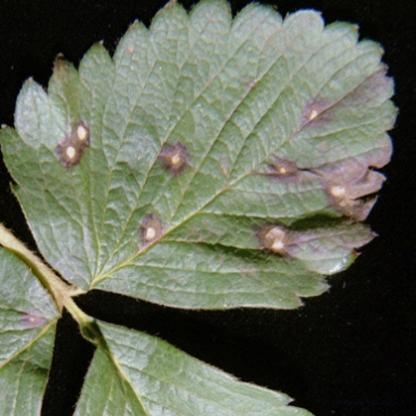Strawberry_Leaf_Spot: (0, 0, 401, 312), (0, 244, 62, 415)
